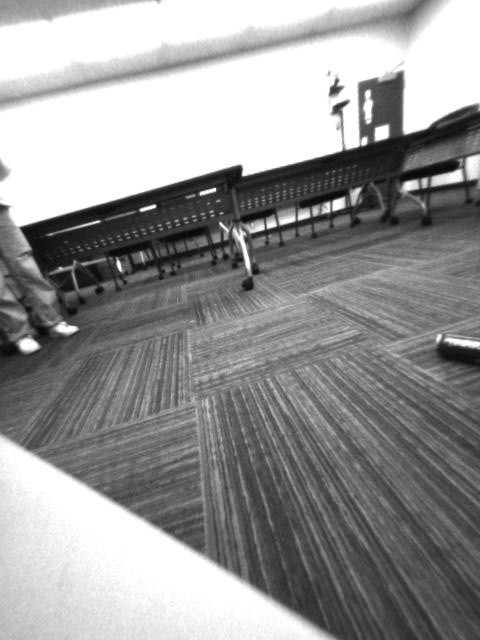can: (432, 329, 480, 365)
